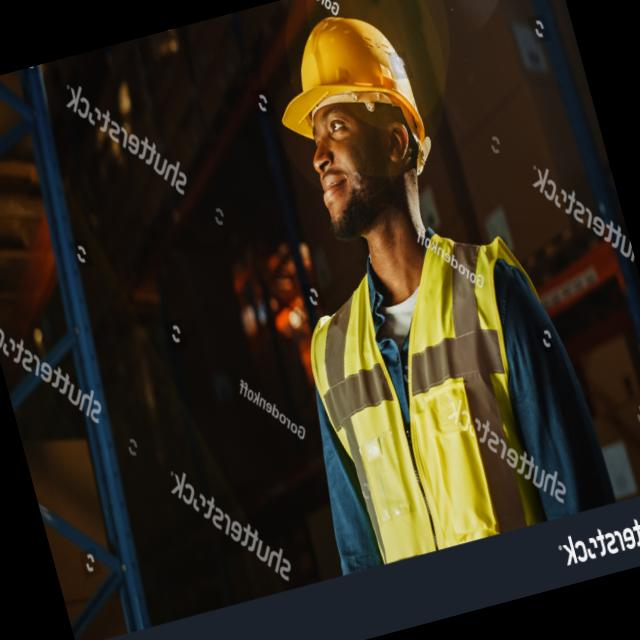helmet: (256, 0, 449, 202)
no-goggles: (295, 96, 392, 163)
vest: (256, 198, 590, 572)
